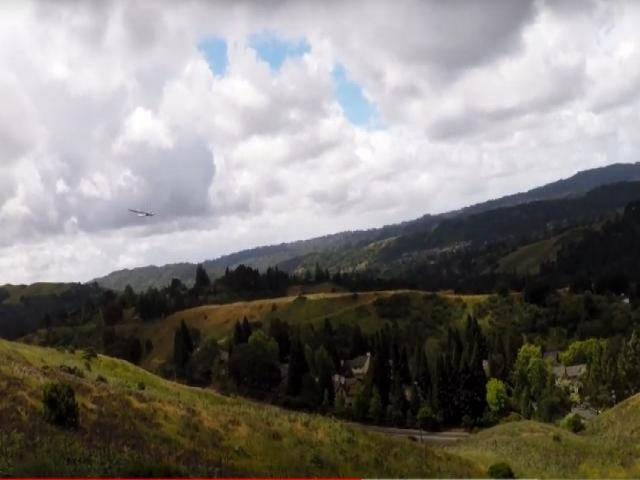iha: (126, 206, 159, 219)
